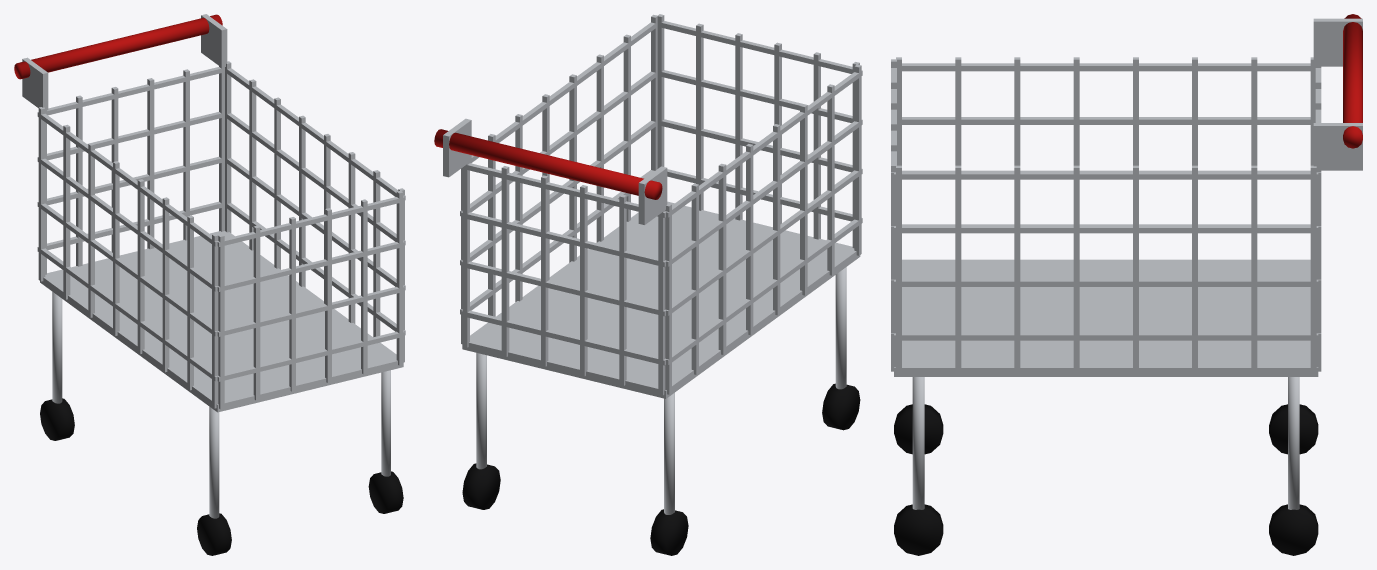
File: shopping_cart.glb
The picture shows the model from 3 angles, left to right: view 1: azimuth 30°, elevation 25°; view 2: azimuth 150°, elevation 25°; view 3: azimuth 270°, elevation 25°; orthographic projection. The views are drawn at different scales.
Parts seen in each view (by area): view 1: shopping_cart; view 2: shopping_cart; view 3: shopping_cart.
Boxes of the visible parts, left/top/right/bottom form: shopping_cart: left=14, top=14, right=405, bottom=555; shopping_cart: left=434, top=14, right=862, bottom=555; shopping_cart: left=891, top=14, right=1362, bottom=555.
Bounding box in the file's own units: 0.56 × 0.96 × 0.956.
Materials: 1 (1 with a texture image).
